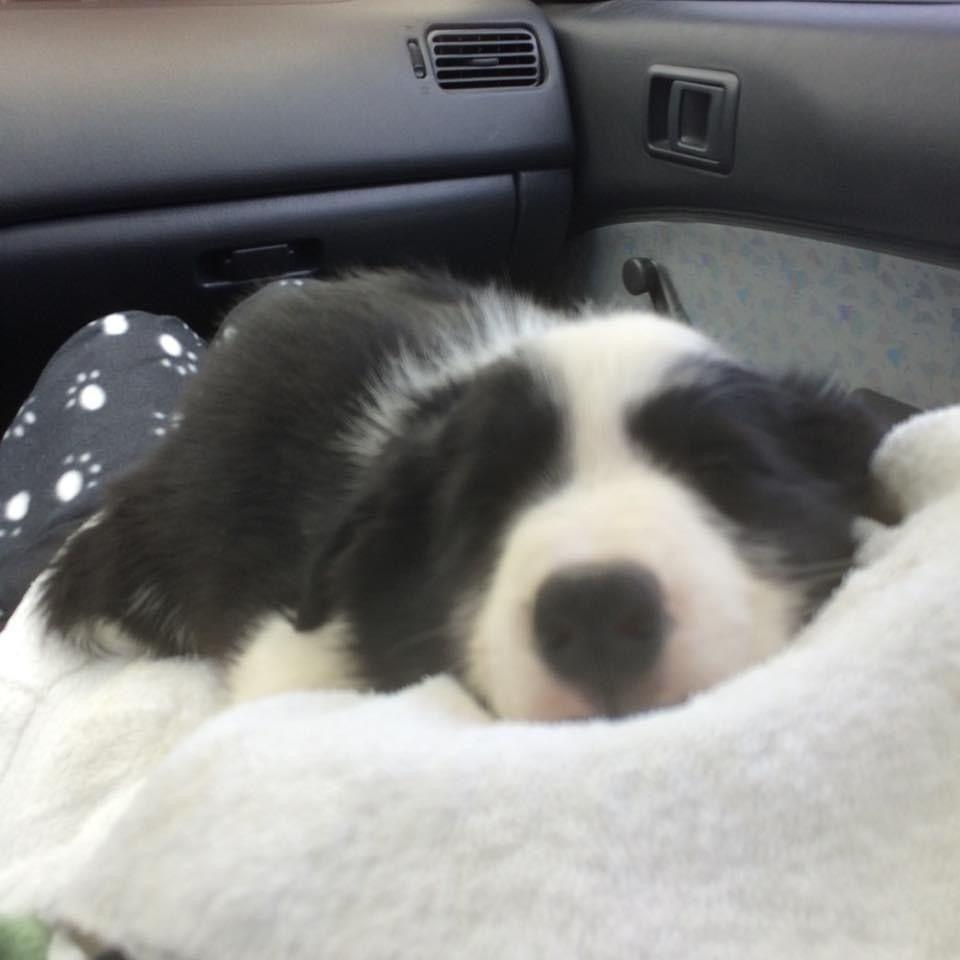puppy-dog: (21, 267, 900, 728)
